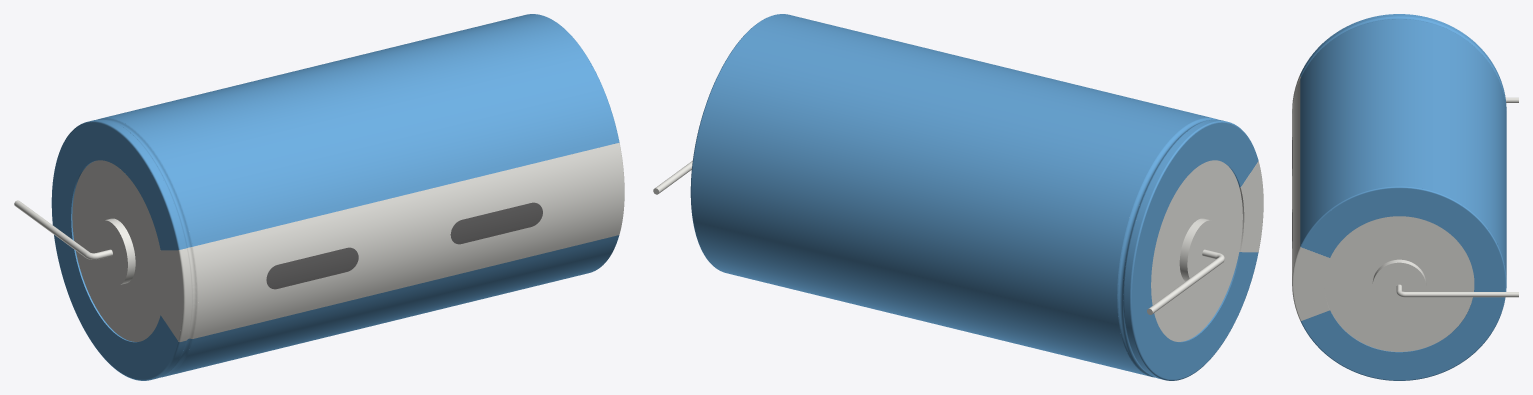
Rendered from CP_Axial_L67.0mm_D35.0mm_P75.00mm_Horizontal.glb.
3 views of the same model, side by side, from view 1: azimuth 30°, elevation 25°; view 2: azimuth 150°, elevation 25°; view 3: azimuth 270°, elevation 25° (orthographic). The views are drawn at different scales.
Parts seen in each view (by area): view 1: Shape_IndexedFaceSet.009, Shape_IndexedFaceSet.049, Shape_IndexedFaceSet.006, Shape_IndexedFaceSet.064, Shape_IndexedFaceSet.028, Shape_IndexedFaceSet.018, Shape_IndexedFaceSet.041, Shape_IndexedFaceSet.062, Shape_IndexedFaceSet, Shape_IndexedFaceSet.005, Shape_IndexedFaceSet.003, Shape_IndexedFaceSet.051 (+2 smaller); view 2: Shape_IndexedFaceSet.009, Shape_IndexedFaceSet.006, Shape_IndexedFaceSet.064, Shape_IndexedFaceSet, Shape_IndexedFaceSet.041, Shape_IndexedFaceSet.005, Shape_IndexedFaceSet.062, Shape_IndexedFaceSet.003, Shape_IndexedFaceSet.007, Shape_IndexedFaceSet.051, Shape_IndexedFaceSet.063; view 3: Shape_IndexedFaceSet.009, Shape_IndexedFaceSet.012, Shape_IndexedFaceSet.059, Shape_IndexedFaceSet.046, Shape_IndexedFaceSet.057, Shape_IndexedFaceSet.049, Shape_IndexedFaceSet.011, Shape_IndexedFaceSet.055, Shape_IndexedFaceSet, Shape_IndexedFaceSet.005, Shape_IndexedFaceSet.002, Shape_IndexedFaceSet.058.
Boxes of the visible parts, left/top/right/bottom form: Shape_IndexedFaceSet.009: left=102, top=14, right=618, bottom=376; Shape_IndexedFaceSet.049: left=193, top=143, right=623, bottom=338; Shape_IndexedFaceSet.006: left=52, top=122, right=178, bottom=379; Shape_IndexedFaceSet.064: left=72, top=160, right=163, bottom=341; Shape_IndexedFaceSet.028: left=266, top=247, right=358, bottom=289; Shape_IndexedFaceSet.018: left=451, top=202, right=542, bottom=244; Shape_IndexedFaceSet.041: left=160, top=250, right=183, bottom=340; Shape_IndexedFaceSet.062: left=94, top=220, right=127, bottom=285; Shape_IndexedFaceSet: left=90, top=119, right=185, bottom=379; Shape_IndexedFaceSet.005: left=99, top=118, right=191, bottom=376; Shape_IndexedFaceSet.003: left=51, top=121, right=180, bottom=380; Shape_IndexedFaceSet.051: left=14, top=200, right=88, bottom=256; Shape_IndexedFaceSet.009: left=691, top=14, right=1212, bottom=376; Shape_IndexedFaceSet.006: left=1132, top=122, right=1258, bottom=379; Shape_IndexedFaceSet.064: left=1151, top=160, right=1242, bottom=341; Shape_IndexedFaceSet: left=1124, top=119, right=1224, bottom=379; Shape_IndexedFaceSet.041: left=1240, top=161, right=1263, bottom=252; Shape_IndexedFaceSet.005: left=1118, top=118, right=1215, bottom=376; Shape_IndexedFaceSet.062: left=1187, top=220, right=1220, bottom=285; Shape_IndexedFaceSet.003: left=1130, top=121, right=1258, bottom=380; Shape_IndexedFaceSet.007: left=1117, top=118, right=1217, bottom=377; Shape_IndexedFaceSet.051: left=1148, top=257, right=1223, bottom=313; Shape_IndexedFaceSet.063: left=1179, top=218, right=1209, bottom=284; Shape_IndexedFaceSet.009: left=1300, top=19, right=1506, bottom=313; Shape_IndexedFaceSet.012: left=1301, top=188, right=1505, bottom=380; Shape_IndexedFaceSet.059: left=1324, top=216, right=1474, bottom=351; Shape_IndexedFaceSet.046: left=1293, top=247, right=1329, bottom=320; Shape_IndexedFaceSet.057: left=1372, top=262, right=1426, bottom=311; Shape_IndexedFaceSet.049: left=1292, top=79, right=1300, bottom=280; Shape_IndexedFaceSet.011: left=1300, top=186, right=1506, bottom=380; Shape_IndexedFaceSet.055: left=1405, top=292, right=1518, bottom=297; Shape_IndexedFaceSet: left=1300, top=14, right=1506, bottom=107; Shape_IndexedFaceSet.005: left=1301, top=17, right=1502, bottom=89; Shape_IndexedFaceSet.002: left=1300, top=16, right=1506, bottom=110; Shape_IndexedFaceSet.058: left=1372, top=259, right=1426, bottom=285.
Bounding box in the file's own units: 29.88 × 13.78 × 14.57.
